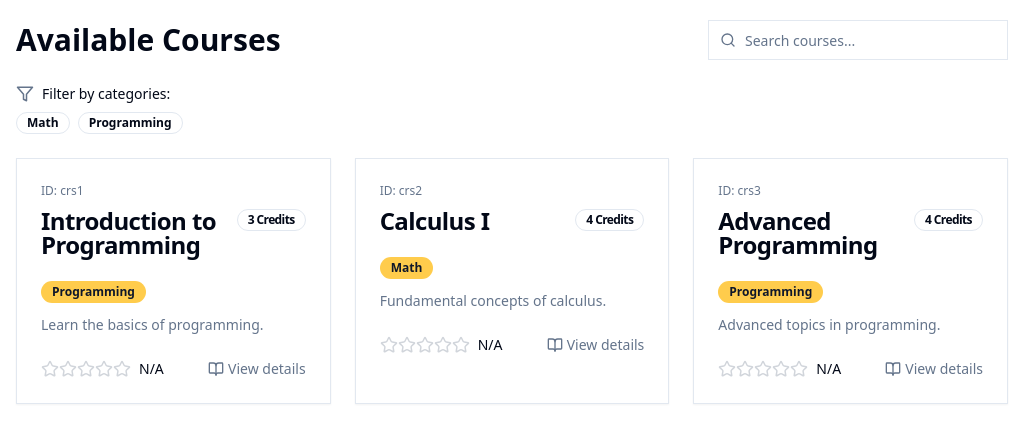
Scenario: CourseList Page › when courses are fetched successfully › filters courses by search query (title)
Expected: the text "Introduction to Programming" is shown, 41,209 -> 229,257
Type "Calculus" into the field with placeholder "Search courses..." at (858, 40), box 708,20 -> 1008,60
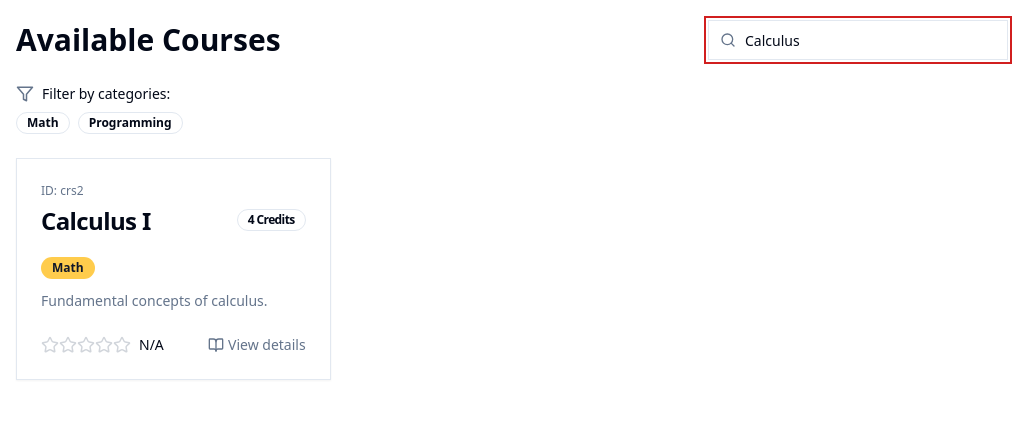
Expected: the text "Calculus I" is shown, 41,209 -> 151,233
Result: the link "Introduction to Programming" is gone
